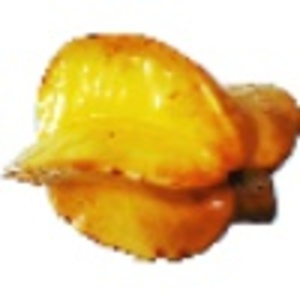carambola: (2, 30, 300, 266)
